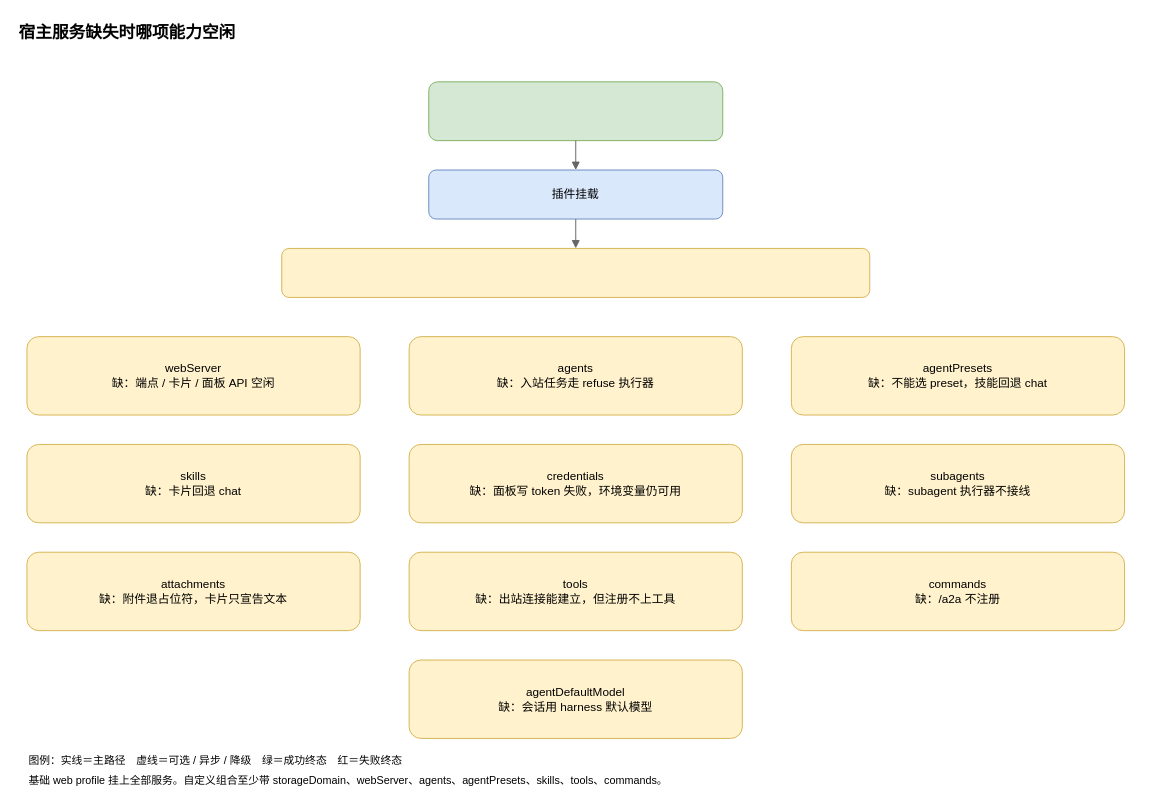
The diagram is 1151 pixels wide and 808 high, and some of its shapes have lost their labels. The shapes that lost their labels are listed below. From the top down, each one's centre as x and y in pixels, then its label:
At [575,111]: "storageDomain 必需".
At [575,272]: "可选服务：逐个探测，缺一个只影响对应一行".
